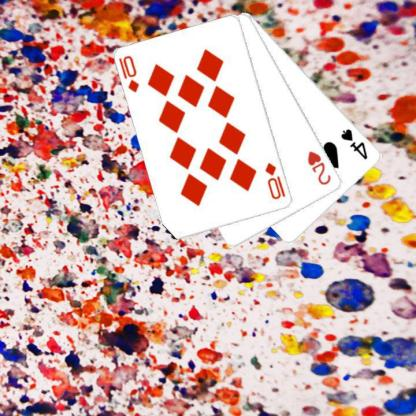10D: (263, 160, 287, 201), (117, 53, 140, 94)
2H: (305, 148, 332, 186)
4S: (339, 126, 369, 161)
